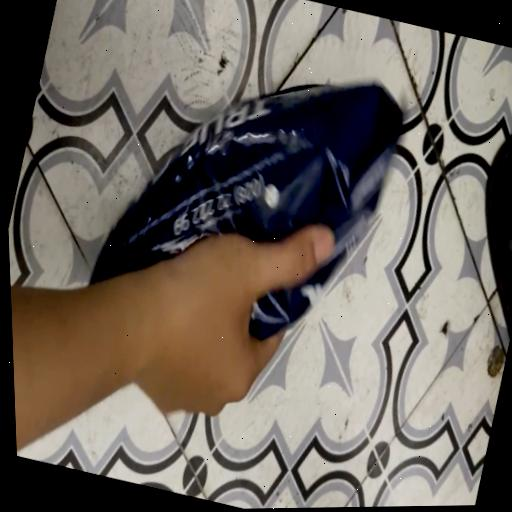cafe_hat: (91, 83, 401, 339)
